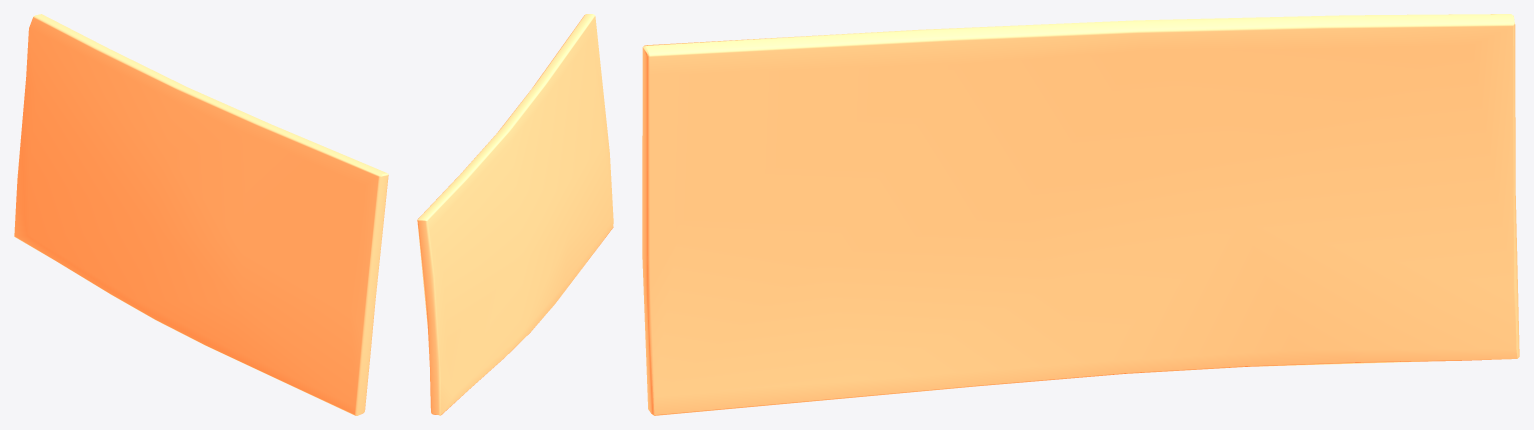
The model's file is SM_Wall_Officer01.fbx.
The picture shows the model from 3 angles, left to right: view 1: azimuth 30°, elevation 25°; view 2: azimuth 150°, elevation 25°; view 3: azimuth 270°, elevation 25°; orthographic projection. The views are drawn at different scales.
Visible parts, largest first — view 1: SM_Wall_Officer01_LOD0; view 2: SM_Wall_Officer01_LOD0; view 3: SM_Wall_Officer01_LOD0.
Boxes of the visible parts, x1,y1,x2,y2 form: SM_Wall_Officer01_LOD0: (14, 14, 388, 415); SM_Wall_Officer01_LOD0: (417, 14, 613, 415); SM_Wall_Officer01_LOD0: (642, 14, 1519, 415).
Size of the model in its own units: 165 by 739 by 356.
